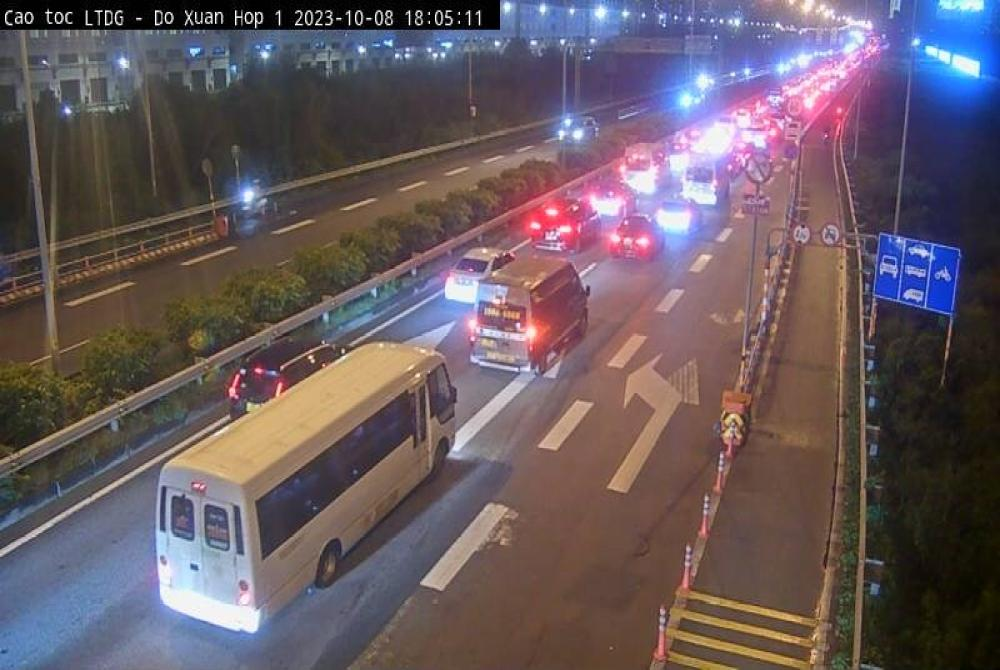bus: (157, 342, 458, 630)
car: (467, 256, 592, 378), (224, 341, 355, 418), (443, 243, 521, 308), (532, 194, 603, 251), (682, 154, 731, 209), (621, 142, 673, 193), (614, 207, 666, 255), (656, 194, 703, 238), (620, 139, 620, 140)
